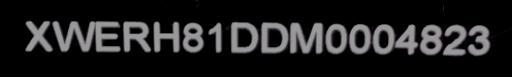letter: (51, 18, 95, 55), (288, 19, 326, 56), (119, 18, 153, 57), (228, 18, 260, 57), (258, 20, 290, 57), (151, 19, 181, 58), (22, 19, 54, 54), (92, 19, 122, 56), (180, 19, 206, 56), (323, 21, 349, 56), (394, 21, 420, 56), (370, 22, 396, 57), (442, 22, 468, 57), (466, 22, 492, 57), (417, 23, 443, 58), (346, 22, 372, 55), (206, 19, 224, 58)
